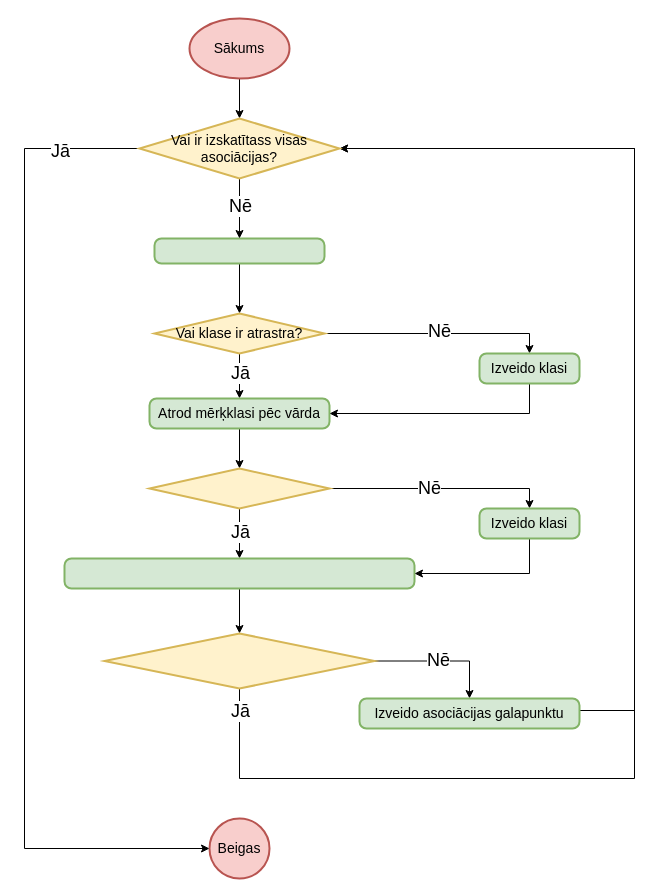
This 660x896 diagram has some shape labels left out. The box of each missing label's shape, as (x1, y1, x2, y2) in pixels:
Atrod asociācijas galapunktu pēc mērķa lomas vārda: (63, 557, 415, 589)
Atrod avotklasi pēc vārda: (153, 237, 325, 264)
Vai asociācijas galapunkts ir atrastrs?: (103, 632, 375, 689)
Vai klase ir atrasta?: (148, 467, 330, 509)
